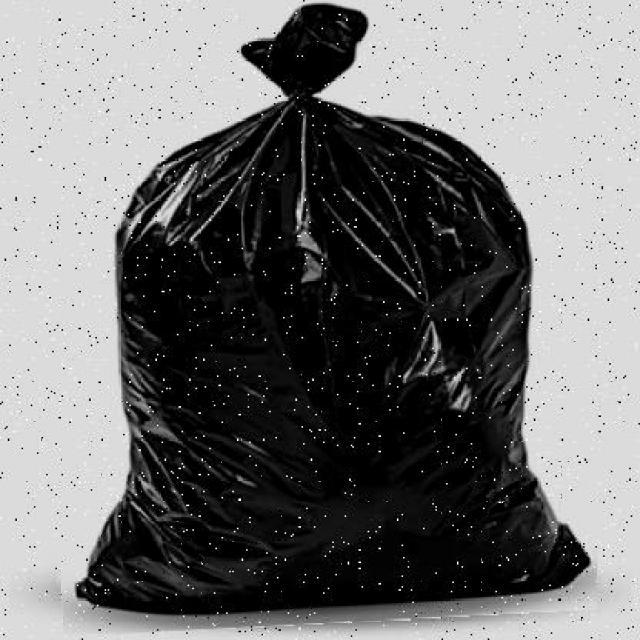waste: (36, 0, 592, 629)
